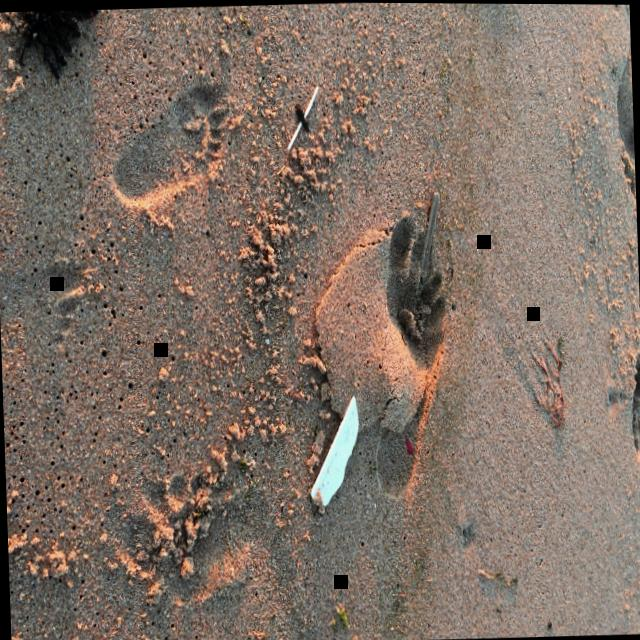Other plastic bottle: (310, 394, 358, 504), (304, 84, 318, 118), (287, 119, 302, 149), (405, 437, 412, 453)
